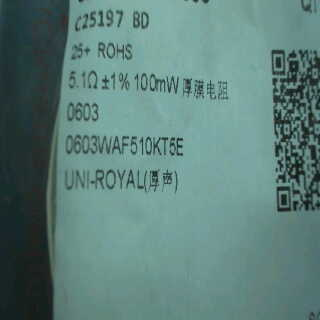5.1R: (65, 67, 104, 94)
